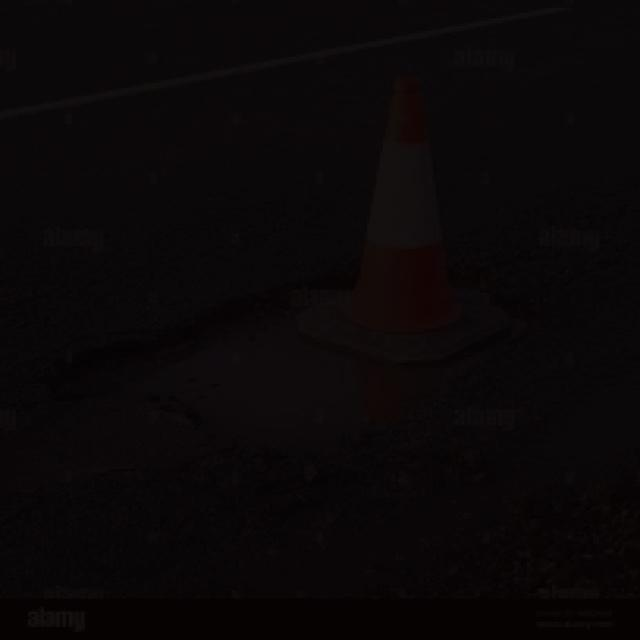Pothole: (39, 257, 546, 458)
